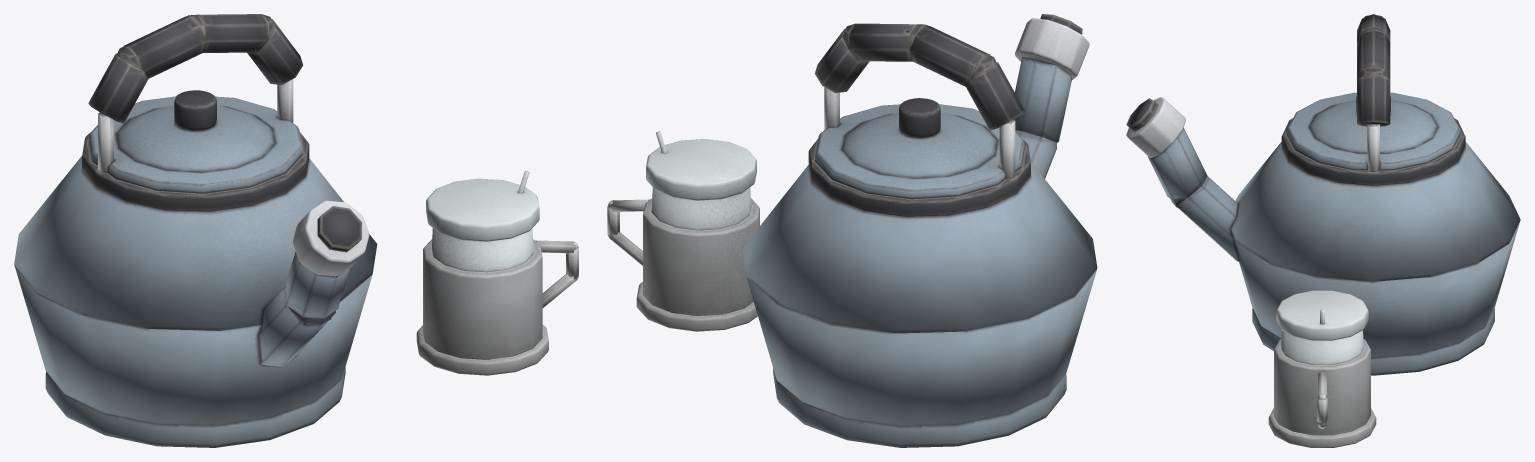
The model's file is soviet_kettle.glb.
The picture shows the model from 3 angles, left to right: view 1: azimuth 30°, elevation 25°; view 2: azimuth 150°, elevation 25°; view 3: azimuth 270°, elevation 25°; orthographic projection. The views are drawn at different scales.
Visible parts, largest first — view 1: soviet_kettle; view 2: soviet_kettle; view 3: soviet_kettle.
Boxes of the visible parts, box(x1,y1,x2,y2) form: soviet_kettle: box(14, 14, 578, 447); soviet_kettle: box(607, 14, 1097, 447); soviet_kettle: box(1126, 14, 1520, 447).
Size of the model in its own units: 0.3685 by 0.258 by 0.3084.
Materials: 1 (1 with a texture image).
